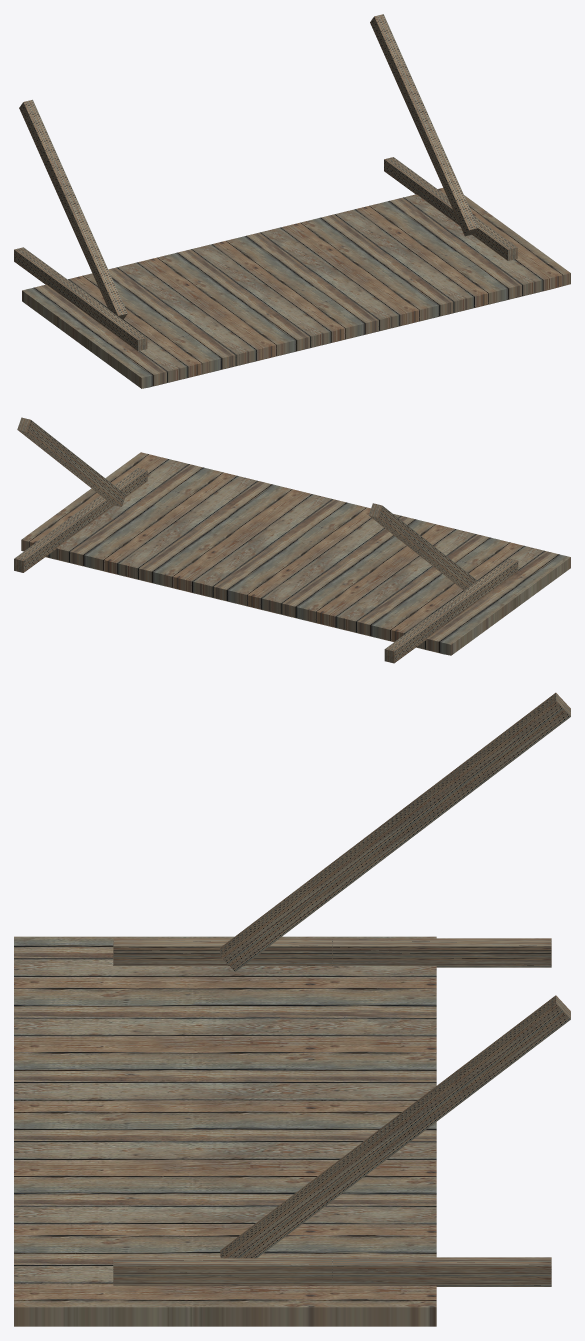
The model's file is urbanwood01billboardb_wtf.obj.
3 views of the same model, one above another, from view 1: azimuth 30°, elevation 25°; view 2: azimuth 150°, elevation 25°; view 3: azimuth 270°, elevation 25° (orthographic). The views are drawn at different scales.
Visible parts, largest first — view 1: group4; view 2: group4; view 3: group4.
Boxes of the visible parts, left/top/right/bottom form: group4: left=14, top=14, right=570, bottom=388; group4: left=14, top=417, right=570, bottom=663; group4: left=14, top=692, right=570, bottom=1326.
Size of the model in its own units: 660 by 253 by 419.
